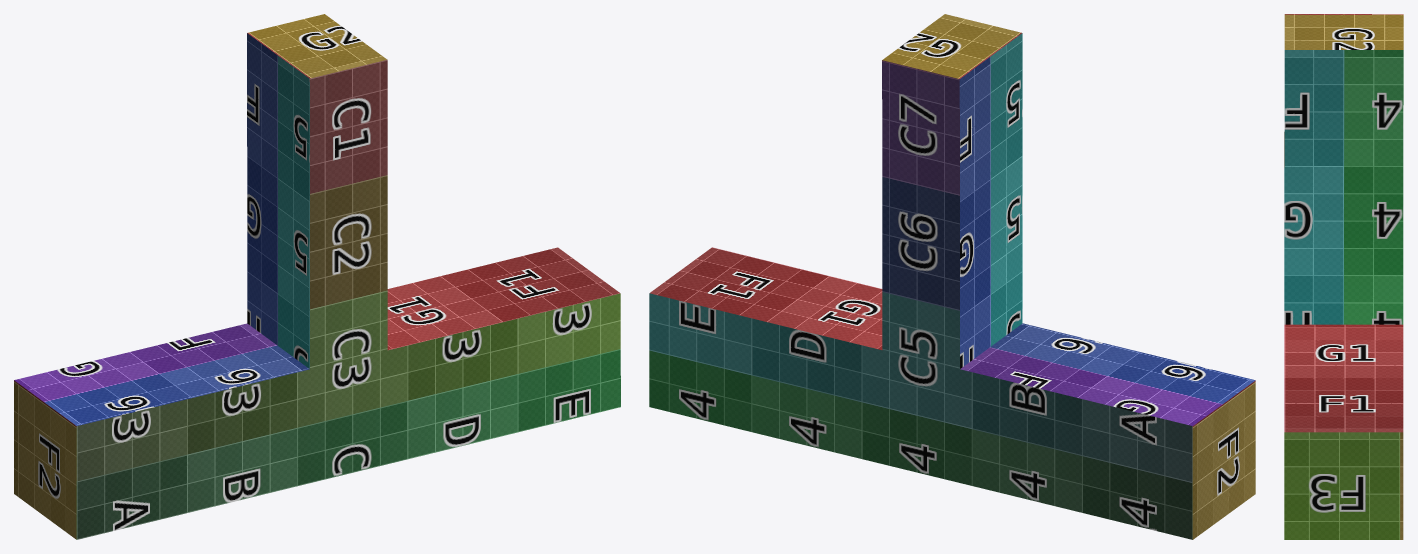
File: VAT_REbaseRexpVAT2uvs02.glb
The picture shows the model from 3 angles, left to right: view 1: azimuth 30°, elevation 25°; view 2: azimuth 150°, elevation 25°; view 3: azimuth 270°, elevation 25°; orthographic projection. The views are drawn at different scales.
Parts seen in each view (by area): view 1: export_mesh; view 2: export_mesh; view 3: export_mesh.
Boxes of the visible parts, <box> form: export_mesh: <box>14,14,620,539</box>; export_mesh: <box>649,14,1255,539</box>; export_mesh: <box>1284,14,1403,539</box>.
Size of the model in its own units: 1 by 0.7105 by 0.2007.
1 material, 1 textured.
